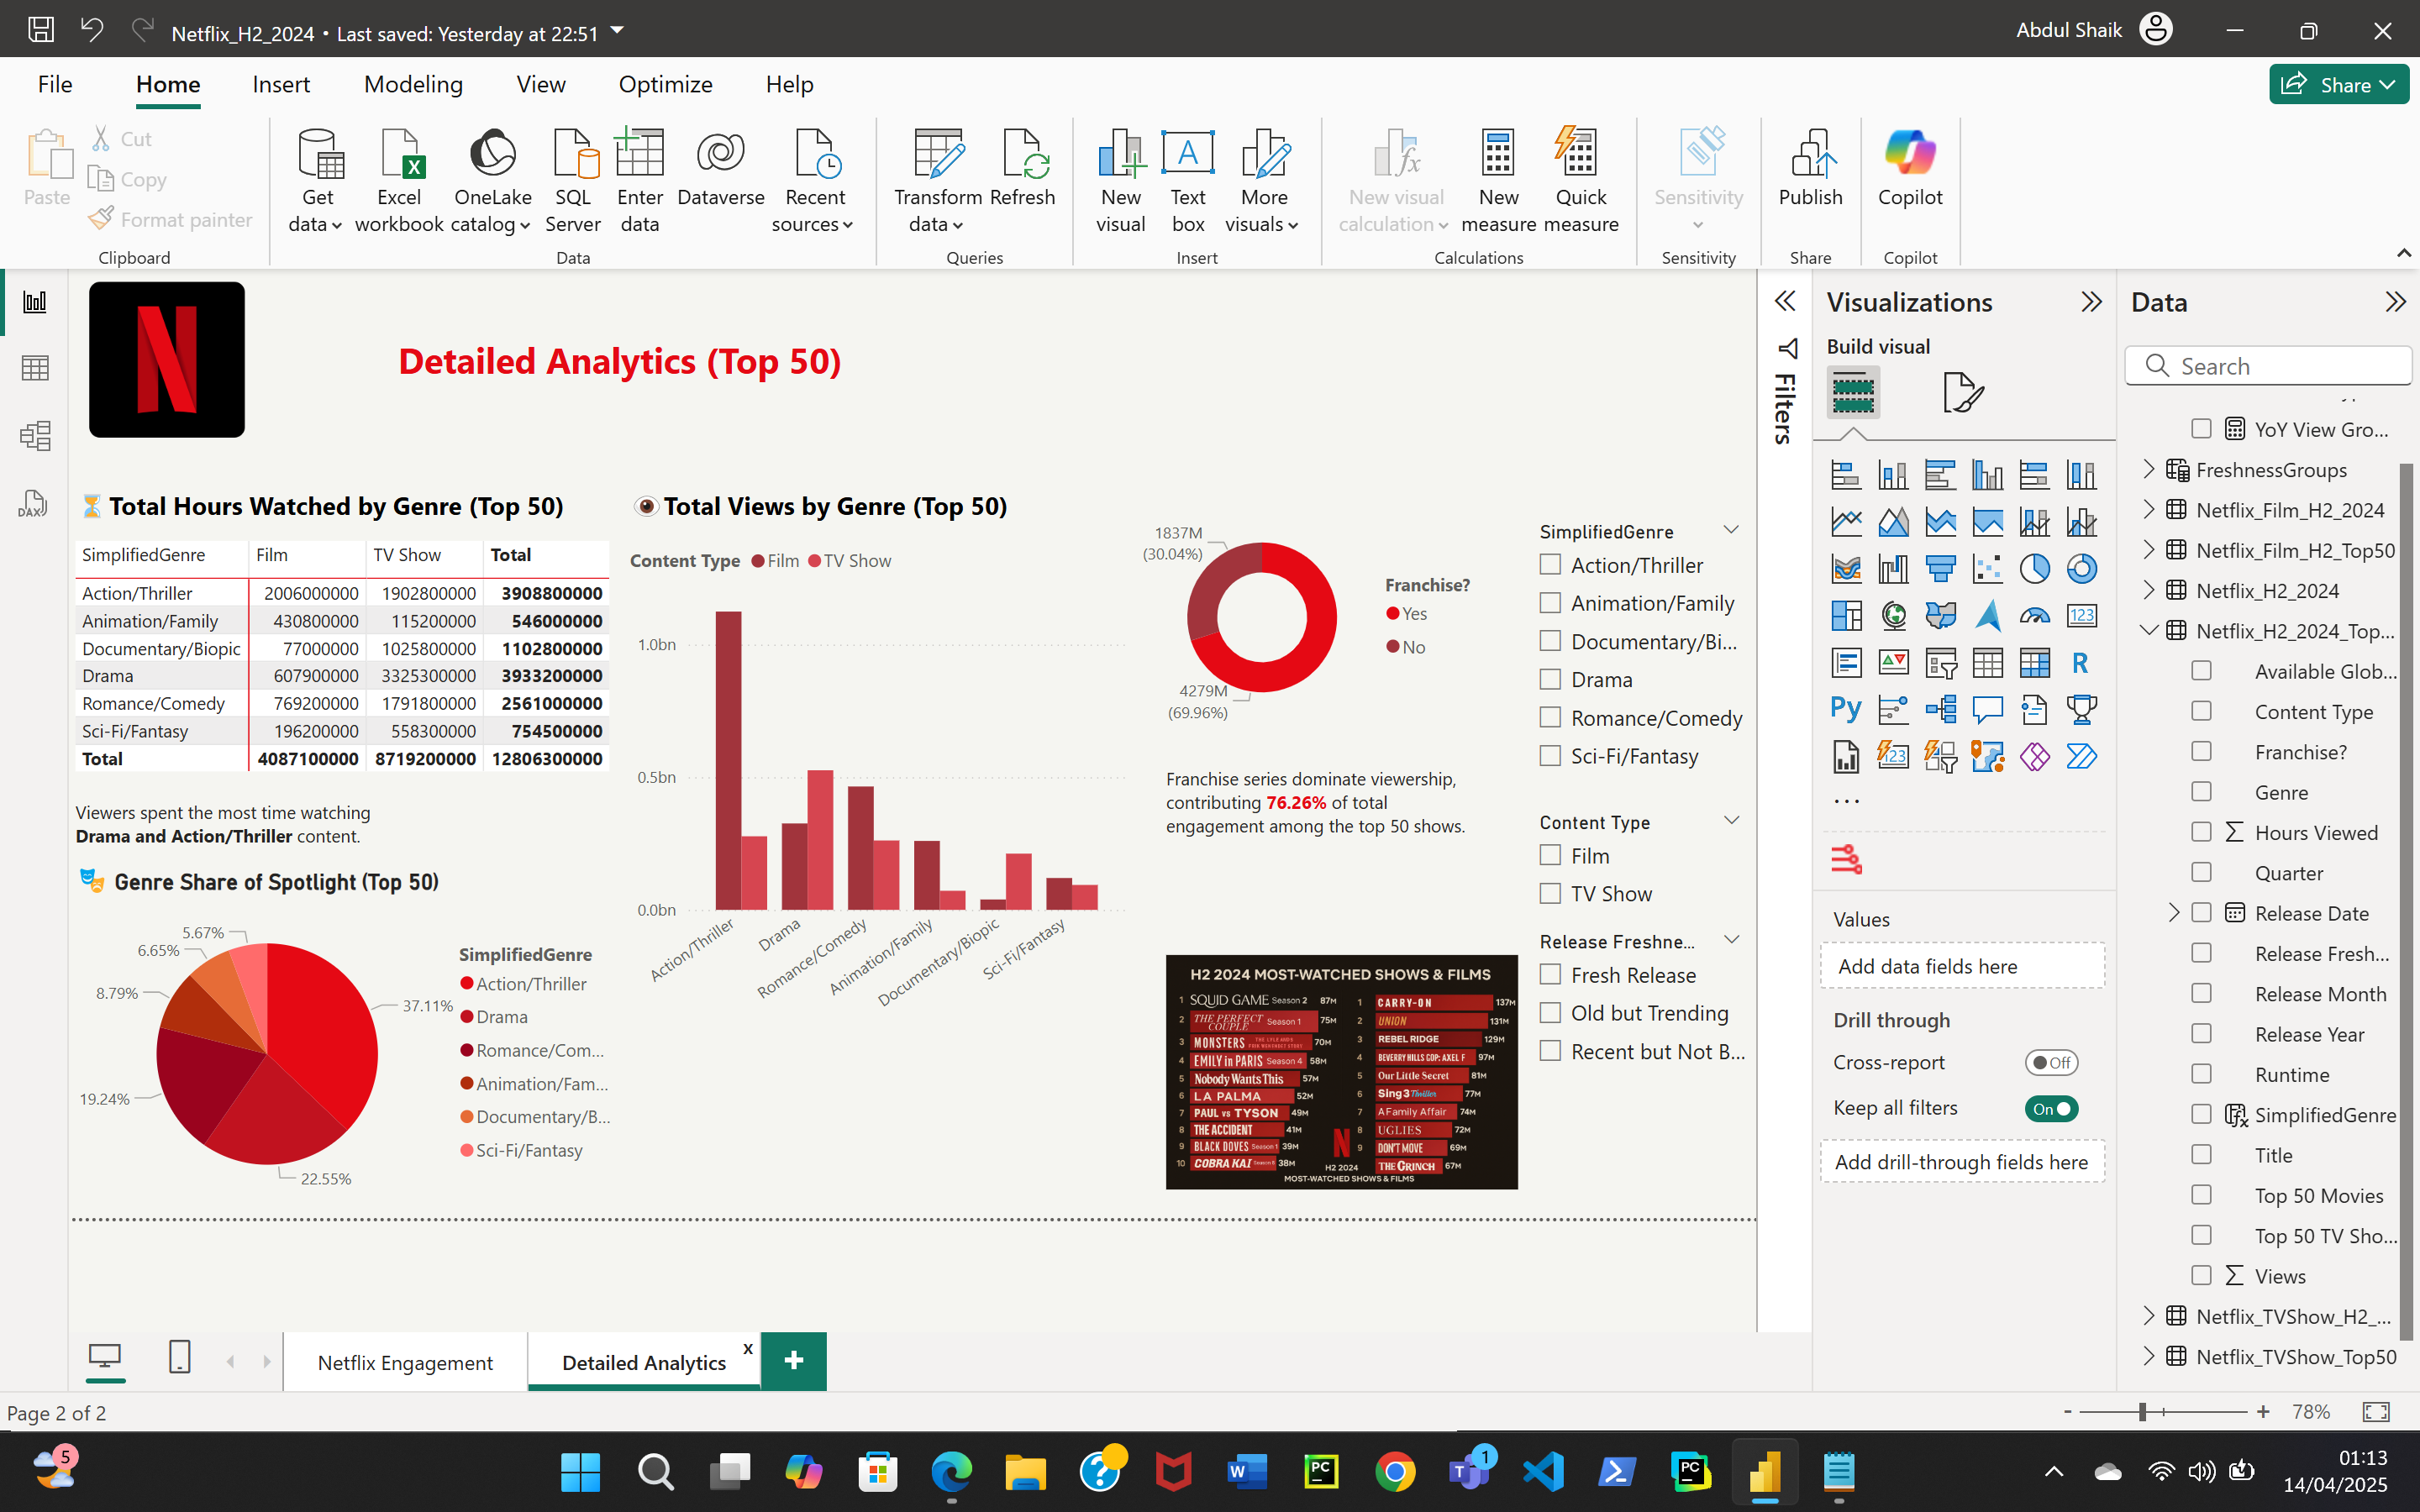

The dashboard page shown, as its layout file describes it:
{"tool":"powerbi","page":{"name":"Detailed Analytics","canvas":[1280,720],"ordinal":1},"visuals":[{"type":"image","box":[826.8,497.6,277.1,225.1],"z":0},{"type":"slicer","fields":{"Values":["Netflix_H2_2024_Top50.SimplifiedGenre"]},"box":[1102.8,186.1,177.2,209.1],"z":1000},{"type":"slicer","fields":{"Values":["Netflix_H2_2024.Content Type"]},"box":[1102.3,406.6,177.7,90.4],"z":2000},{"type":"slicer","fields":{"Values":["Netflix_H2_2024.Release Freshness"]},"box":[1102.3,496.9,177.7,117.5],"z":3000},{"type":"clusteredColumnChart","fields":{"Category":["Netflix_H2_2024_Top50.SimplifiedGenre"],"Y":["Sum(Netflix_H2_2024_Top50.Views)"],"Series":["Netflix_H2_2024_Top50.Content Type"]},"box":[420.7,201.4,386.3,385],"z":4000},{"type":"donutChart","fields":{"Category":["Netflix_TVShow_H2_2024.Franchise?"],"Y":["Sum(Netflix_TVShow_H2_2024.Views)"]},"box":[807,156.8,280.5,215.5],"z":5000},{"type":"pivotTable","fields":{"Rows":["Netflix_H2_2024_Top50.SimplifiedGenre"],"Columns":["Netflix_H2_2024_Top50.Content Type"],"Values":["Sum(Netflix_H2_2024_Top50.Hours Viewed)"]},"box":[0,201.4,429.6,195.1],"z":6000},{"type":"textbox","box":[244.8,45.9,364.6,51],"z":7000},{"type":"image","box":[0,0,148.5,137.8],"z":8000},{"type":"textbox","box":[0,161.9,390.1,39.5],"z":9000},{"type":"textbox","box":[420.7,161.9,346.8,39.5],"z":10000},{"type":"textbox","box":[827.4,372.3,251.2,79],"z":11000},{"type":"textbox","box":[0,397.8,256.3,53.5],"z":12000},{"type":"pieChart","title":"🎭 Genre Share of Spotlight (Top 50)","fields":{"Category":["Netflix_H2_2024_Top50.SimplifiedGenre"],"Y":["Sum(Netflix_H2_2024_Top50.Views)"]},"box":[0,451.3,427.1,270.3],"z":13000}]}

Visuals, with their boxes on the page's 1280x720 design canvas (x1, y1, x2, y2). These are canvas units, not pixel positions in the 2420x1512 screenshot, which may show the page scaled, cropped or inside an application window:
image: {"x1": 827, "y1": 498, "x2": 1104, "y2": 723}
slicer - Netflix_H2_2024_Top50.SimplifiedGenre: {"x1": 1103, "y1": 186, "x2": 1280, "y2": 395}
slicer - Netflix_H2_2024.Content Type: {"x1": 1102, "y1": 407, "x2": 1280, "y2": 497}
slicer - Netflix_H2_2024.Release Freshness: {"x1": 1102, "y1": 497, "x2": 1280, "y2": 614}
clusteredColumnChart - Netflix_H2_2024_Top50.SimplifiedGenre x Sum(Netflix_H2_2024_Top50.Views): {"x1": 421, "y1": 201, "x2": 807, "y2": 586}
donutChart - Netflix_TVShow_H2_2024.Franchise? x Sum(Netflix_TVShow_H2_2024.Views): {"x1": 807, "y1": 157, "x2": 1088, "y2": 372}
pivotTable - Netflix_H2_2024_Top50.SimplifiedGenre x Netflix_H2_2024_Top50.Content Type: {"x1": 0, "y1": 201, "x2": 430, "y2": 396}
textbox: {"x1": 245, "y1": 46, "x2": 609, "y2": 97}
image: {"x1": 0, "y1": 0, "x2": 148, "y2": 138}
textbox: {"x1": 0, "y1": 162, "x2": 390, "y2": 201}
textbox: {"x1": 421, "y1": 162, "x2": 768, "y2": 201}
textbox: {"x1": 827, "y1": 372, "x2": 1079, "y2": 451}
textbox: {"x1": 0, "y1": 398, "x2": 256, "y2": 451}
"🎭 Genre Share of Spotlight (Top 50)" pieChart: {"x1": 0, "y1": 451, "x2": 427, "y2": 722}
